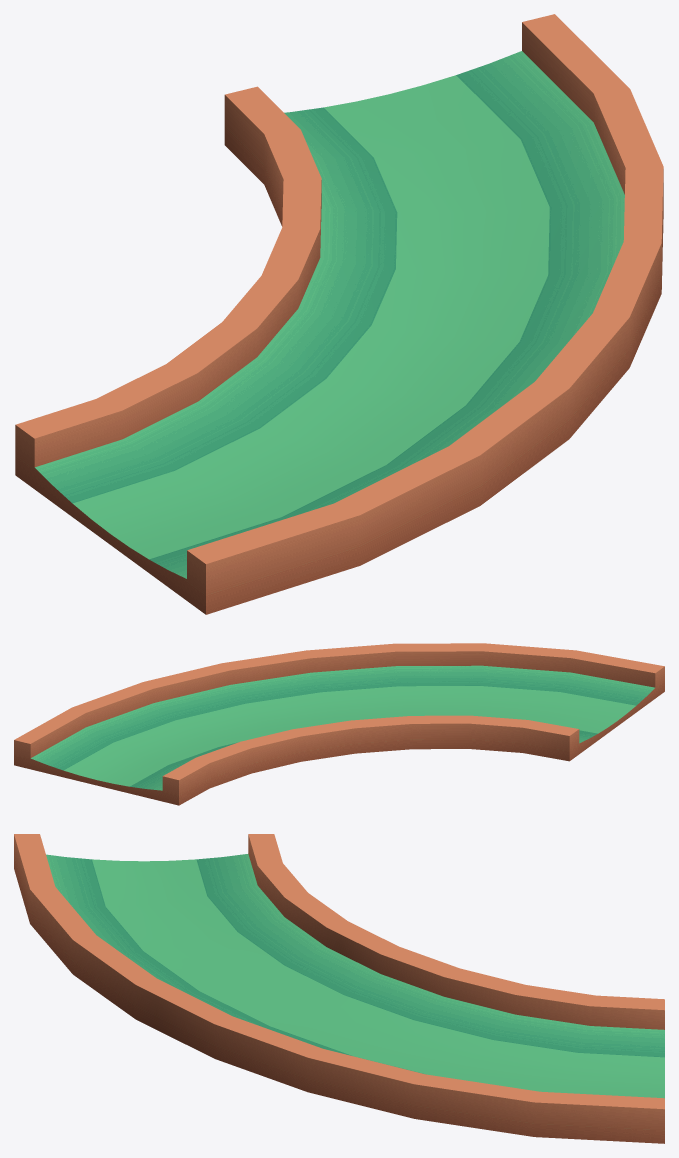
Rendered from spline_concave_corner_small.glb.
3 views of the same model, one above another, from view 1: azimuth 30°, elevation 25°; view 2: azimuth 150°, elevation 25°; view 3: azimuth 270°, elevation 25° (orthographic). The views are drawn at different scales.
Parts seen in each view (by area): view 1: spline-concave-corner-small; view 2: spline-concave-corner-small; view 3: spline-concave-corner-small.
Part boxes in pixels (bbox=[...]): spline-concave-corner-small: bbox=[15, 14, 663, 614]; spline-concave-corner-small: bbox=[14, 643, 664, 805]; spline-concave-corner-small: bbox=[14, 834, 664, 1143].
Bounding box in the file's own units: 2.5 × 0.1467 × 2.5.
1 material, 1 textured.
